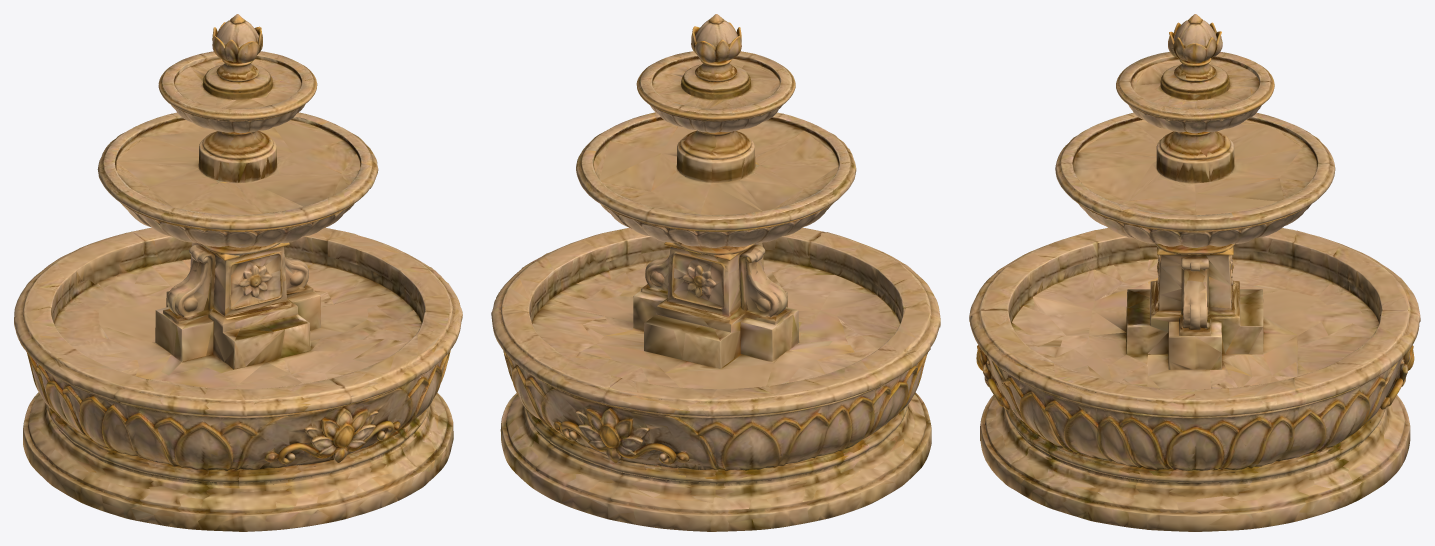
File: fuente.glb
3 renders of one model, left to right at view 1: azimuth 30°, elevation 25°; view 2: azimuth 150°, elevation 25°; view 3: azimuth 270°, elevation 25°, orthographic.
Parts seen in each view (by area): view 1: Mesh_0; view 2: Mesh_0; view 3: Mesh_0.
Boxes of the visible parts, x1,y1,x2,y2 form: Mesh_0: [14, 14, 462, 531]; Mesh_0: [491, 14, 940, 531]; Mesh_0: [969, 14, 1420, 531].
Size of the model in its own units: 1.81 by 1.9 by 1.82.
1 material, 1 textured.
